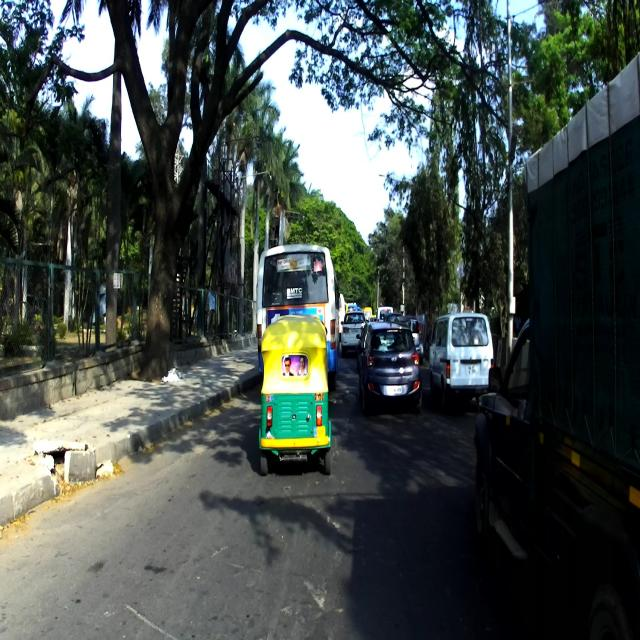autorickshaw: (258, 315, 332, 476)
bus: (256, 242, 341, 396), (336, 293, 346, 346)
car: (425, 313, 496, 409), (356, 322, 422, 416), (394, 316, 424, 367), (340, 311, 366, 359)
